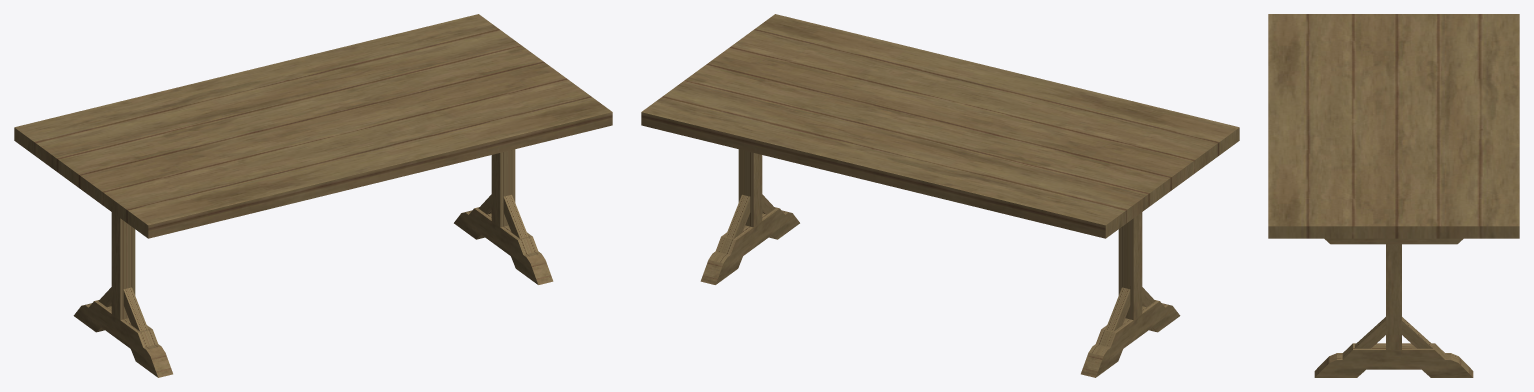
Rendered from table03.glb.
3 views of the same model, side by side, from view 1: azimuth 30°, elevation 25°; view 2: azimuth 150°, elevation 25°; view 3: azimuth 270°, elevation 25° (orthographic). The views are drawn at different scales.
Parts seen in each view (by area): view 1: table03; view 2: table03; view 3: table03.
Boxes of the visible parts, <box> form: table03: <box>14,14,612,377</box>; table03: <box>641,14,1239,377</box>; table03: <box>1268,14,1519,377</box>.
Size of the model in its own units: 2.2 by 0.81 by 1.1.
Materials: 1 (1 with a texture image).
